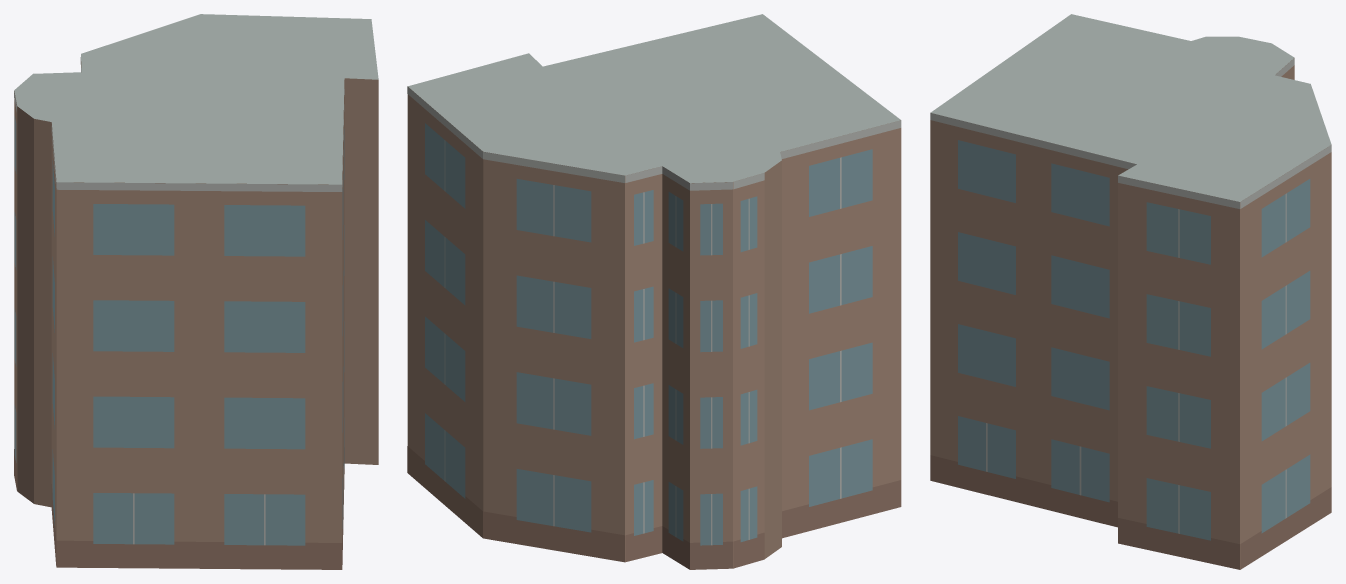
Rendered from survey-upis-32680311.glb.
3 renders of one model, left to right at view 1: azimuth 30°, elevation 25°; view 2: azimuth 150°, elevation 25°; view 3: azimuth 270°, elevation 25°, orthographic. The views are drawn at different scales.
Visible parts, largest first — view 1: survey-upis-32680311.tmp; view 2: survey-upis-32680311.tmp; view 3: survey-upis-32680311.tmp.
Part boxes in pixels (box(x1,y1,x2,y2)): survey-upis-32680311.tmp: box(14, 14, 378, 569); survey-upis-32680311.tmp: box(407, 14, 901, 569); survey-upis-32680311.tmp: box(930, 14, 1331, 569).
Bounding box in the file's own units: 13.6 × 12.4 × 12.27.
